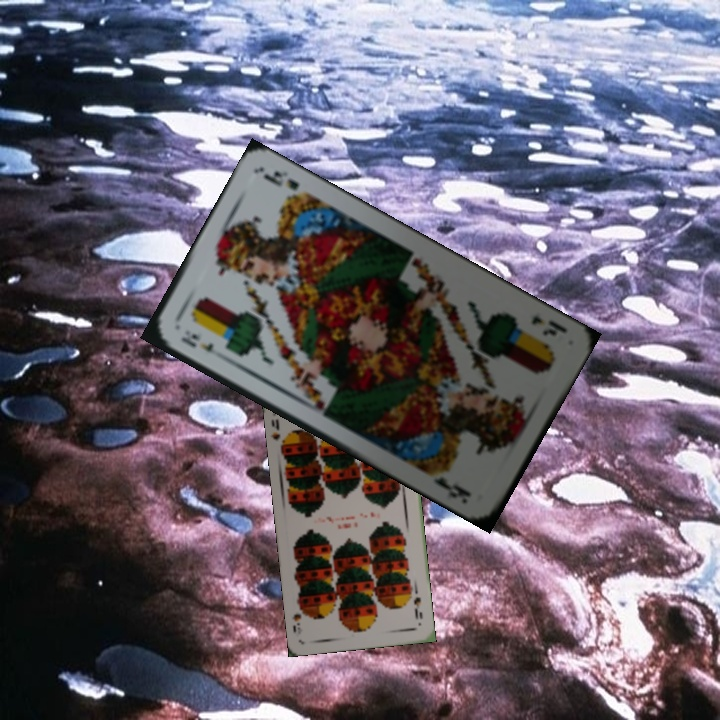EK: (176, 329, 226, 362), (527, 311, 570, 339)
S9: (267, 415, 289, 452), (409, 593, 425, 622)
